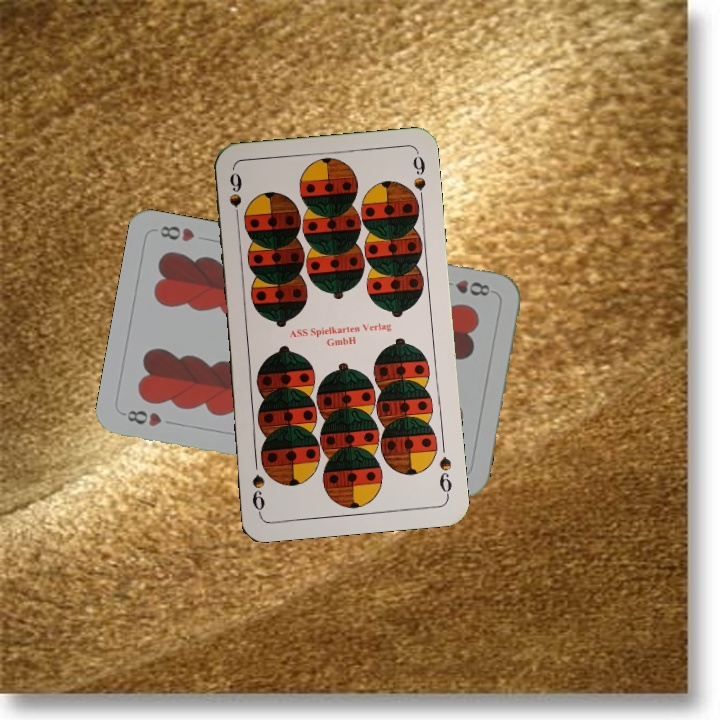H8: (119, 406, 165, 429), (451, 275, 493, 299)
S9: (225, 168, 244, 227), (435, 453, 455, 500)
